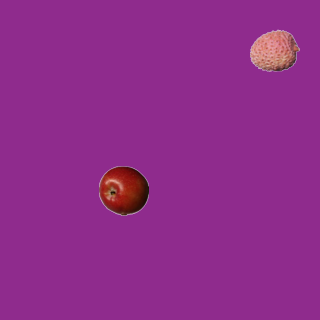Apple Braeburn: (98, 165, 148, 215)
Lychee: (249, 25, 299, 75)
